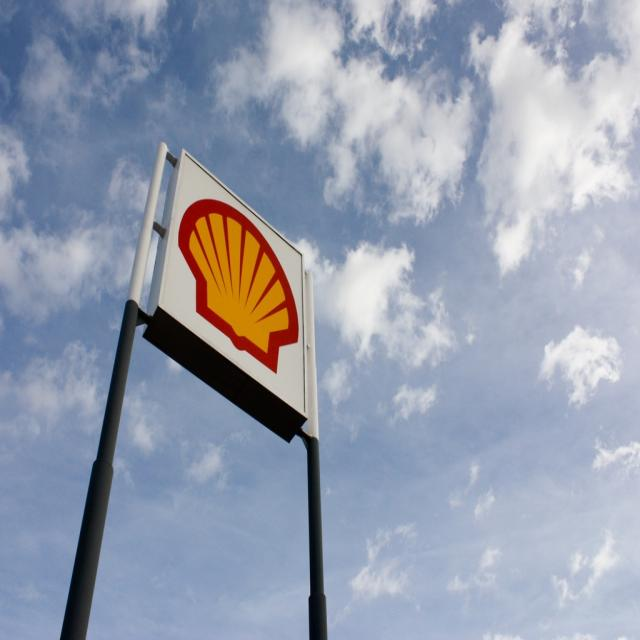shell: (178, 197, 301, 375)
